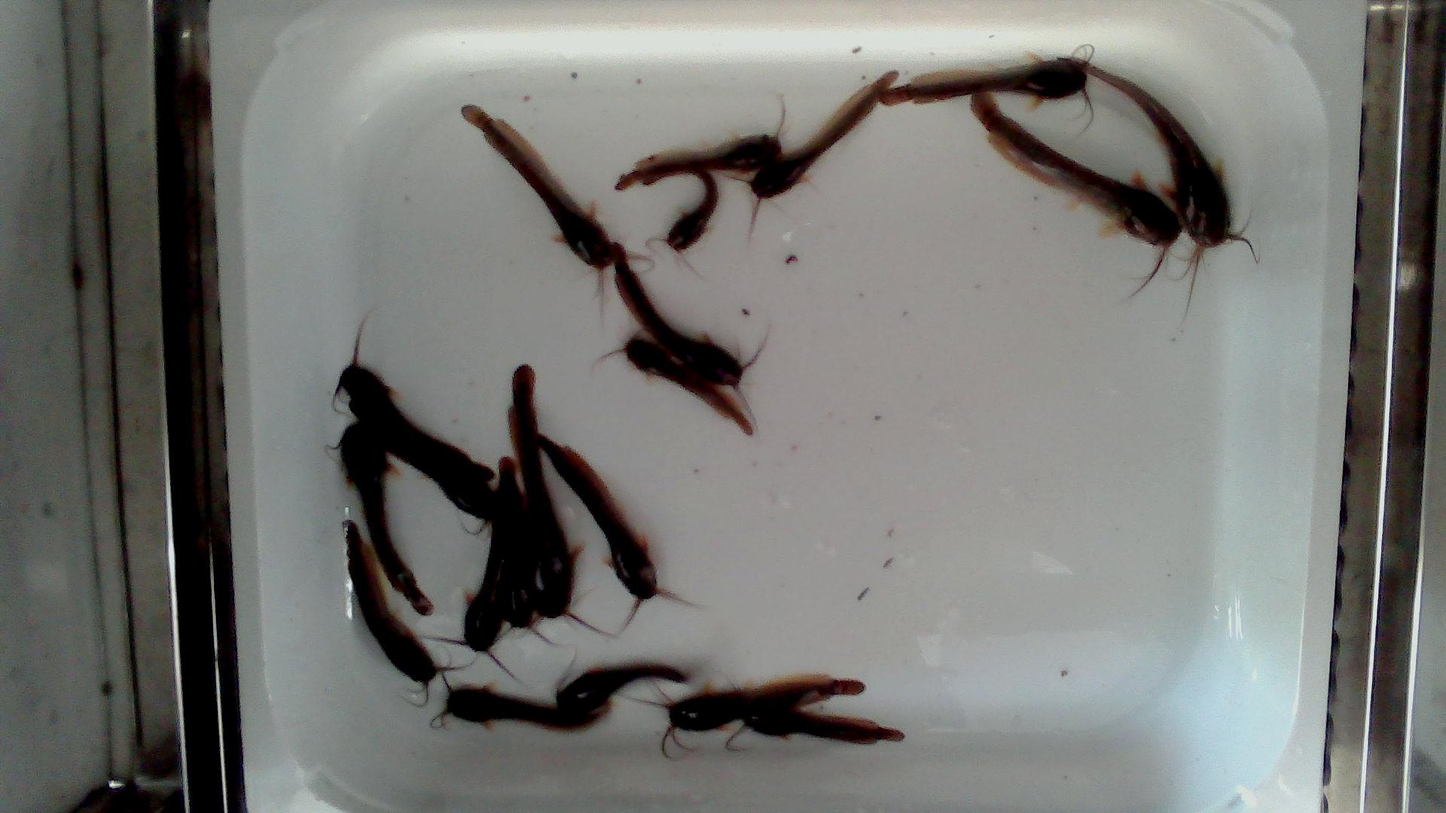lele: (1085, 61, 1255, 319), (970, 96, 1181, 302), (462, 105, 615, 321), (720, 70, 900, 248), (506, 362, 616, 639), (610, 243, 771, 425), (540, 435, 686, 628), (331, 314, 496, 483), (344, 519, 470, 709), (617, 673, 868, 762), (426, 456, 522, 683), (324, 423, 436, 617), (345, 401, 495, 538), (880, 47, 1095, 133), (598, 331, 755, 440), (614, 96, 786, 194), (428, 668, 610, 736), (492, 481, 559, 647), (724, 700, 907, 752), (555, 651, 688, 715), (668, 169, 718, 251)
